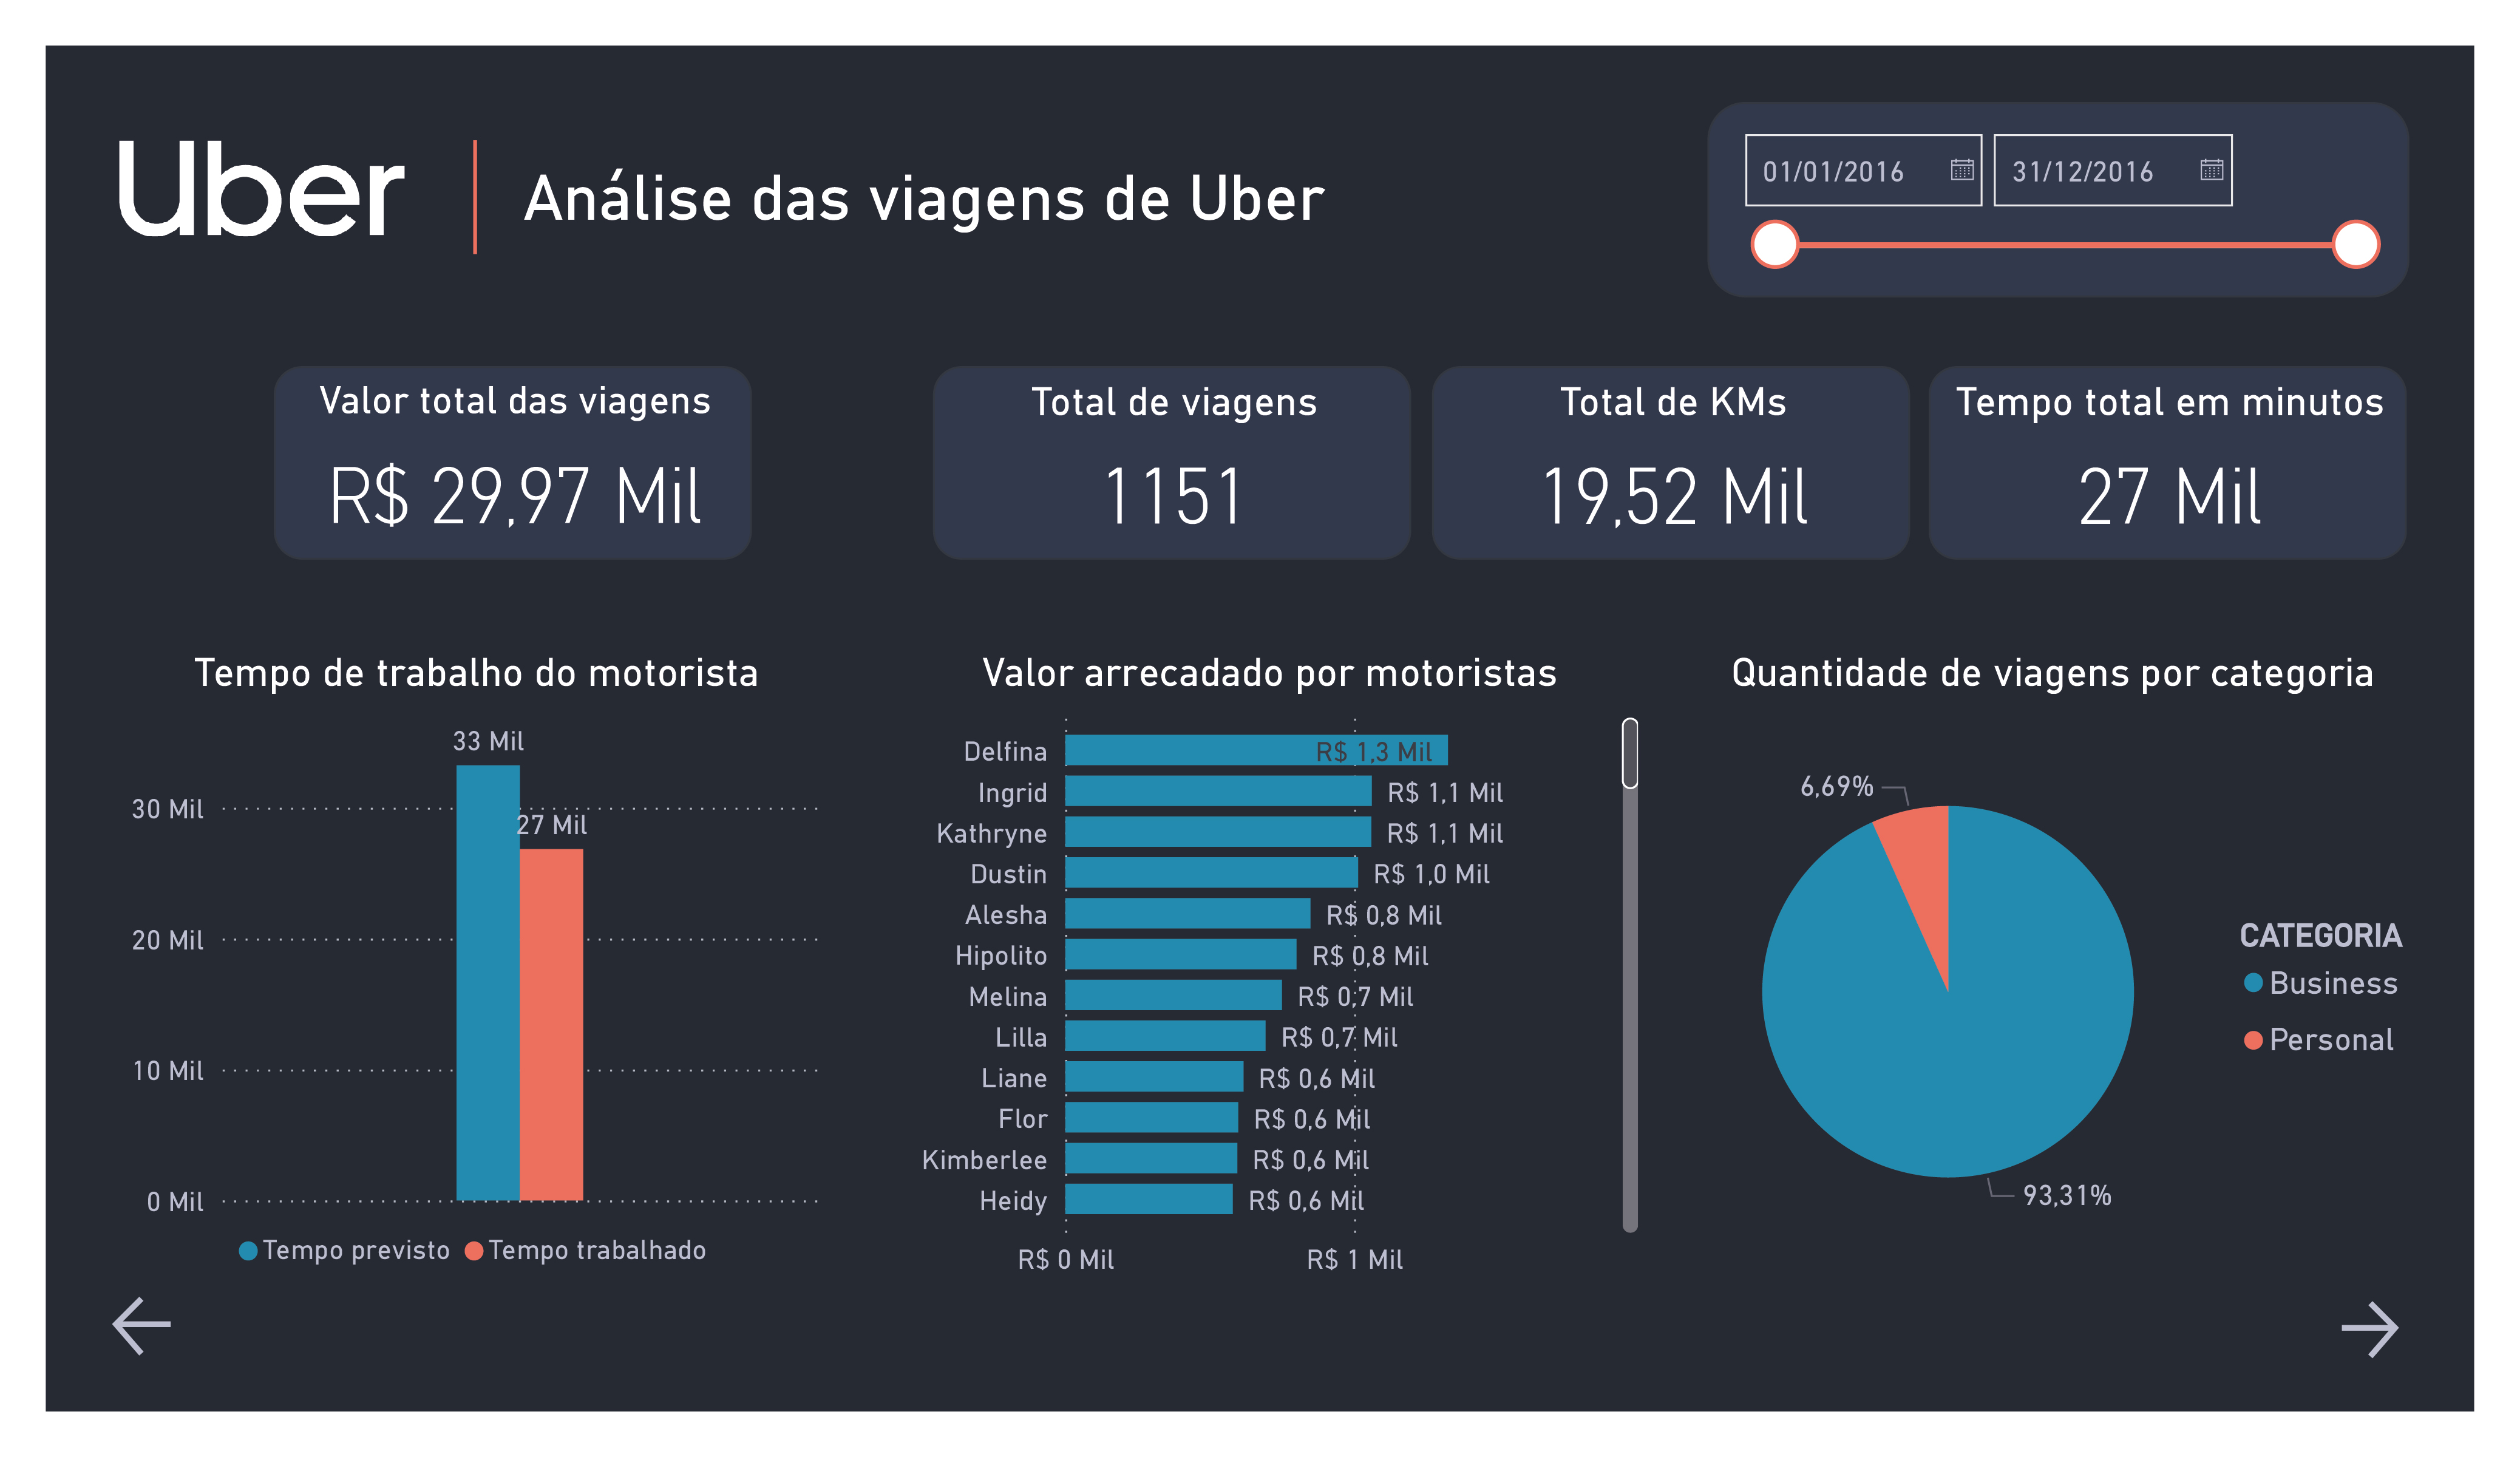

This screenshot's page, from the dashboard's own definition file:
{"tool":"powerbi","page":{"name":"Inicial","canvas":[1280,720],"ordinal":1},"visuals":[{"type":"card","title":"Valor total das viagens","fields":{"Values":["Dataset Uber 2016.VALOR"]},"box":[120.3,169.3,252.4,102.4],"z":0},{"type":"card","title":"Total de KMs","fields":{"Values":["Dataset Uber 2016.KM"]},"box":[730.9,168.9,252.4,102.4],"z":1000},{"type":"card","title":"Tempo total  em minutos","fields":{"Values":["Dataset Uber 2016.DURAÇÃO DA VIAGEM (MIN)"]},"box":[993.1,168.9,252.4,102.4],"z":2000},{"type":"card","title":"Total de viagens","fields":{"Values":["Dataset Uber 2016.# QUANTIDADE DE VIAGENS"]},"box":[468,168.9,252.4,102.4],"z":3000},{"type":"textbox","box":[246.2,56.5,597.9,54],"z":4000},{"type":"shape","box":[212.3,50.2,28.9,60.3],"z":5000},{"type":"image","box":[15.1,30.1,197.2,94.2],"z":6000},{"type":"clusteredColumnChart","title":"Tempo de trabalho do motorista","fields":{"Y":["Drivers.MINUTOS PREVISTOS (MÉDIA)","Dataset Uber 2016.DURAÇÃO DA VIAGEM (MIN)"]},"box":[39.1,317.7,375.7,338.1],"z":7000},{"type":"pieChart","title":"Quantidade de viagens por categoria","fields":{"Category":["Dataset Uber 2016.CATEGORIA"],"Y":["Dataset Uber 2016.# QUANTIDADE DE VIAGENS"]},"box":[843.7,317.7,428.9,338.1],"z":8000},{"type":"actionButton","box":[1204.8,656.4,40.8,39.6],"z":9000},{"type":"clusteredBarChart","title":"Valor arrecadado por motoristas","fields":{"Category":["Drivers.NOME"],"Y":["Dataset Uber 2016.VALOR"]},"box":[446.1,317.7,397.6,338.1],"z":10000},{"type":"slicer","fields":{"Values":["Dataset Uber 2016.INÍCIO_VIAGEM"]},"box":[876,29.2,369.9,103.2],"z":11000},{"type":"actionButton","box":[31.3,654.3,45.4,40.7],"z":11001}]}

Visuals, with their boxes on the page's 1280x720 design canvas (x1, y1, x2, y2). These are canvas units, not pixel positions in the 2520x1457 screenshot, which may show the page scaled, cropped or inside an application window:
"Valor total das viagens" card: box(120, 169, 373, 272)
"Total de KMs" card: box(731, 169, 983, 271)
"Tempo total  em minutos" card: box(993, 169, 1246, 271)
"Total de viagens" card: box(468, 169, 720, 271)
textbox: box(246, 56, 844, 110)
shape: box(212, 50, 241, 110)
image: box(15, 30, 212, 124)
"Tempo de trabalho do motorista" clusteredColumnChart: box(39, 318, 415, 656)
"Quantidade de viagens por categoria" pieChart: box(844, 318, 1273, 656)
actionButton: box(1205, 656, 1246, 696)
"Valor arrecadado por motoristas" clusteredBarChart: box(446, 318, 844, 656)
slicer - Dataset Uber 2016.INÍCIO_VIAGEM: box(876, 29, 1246, 132)
actionButton: box(31, 654, 77, 695)
